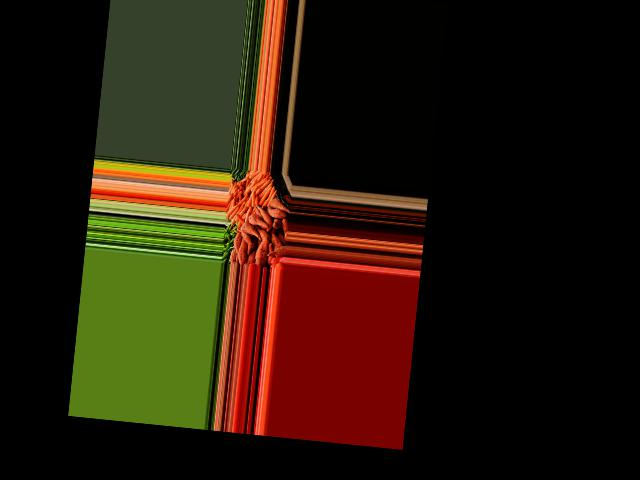carrot: (259, 185, 272, 207)
